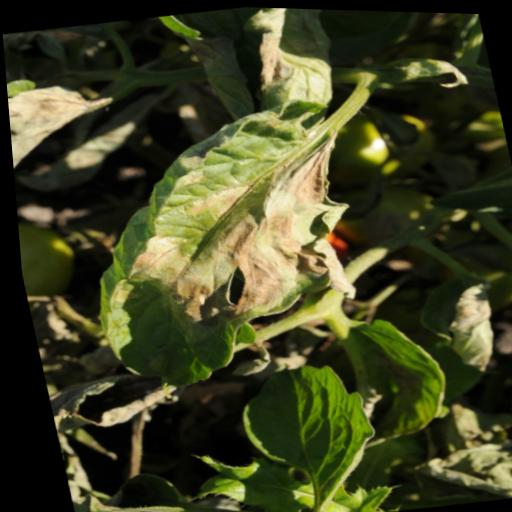Late Blight: (44, 100, 385, 393)
